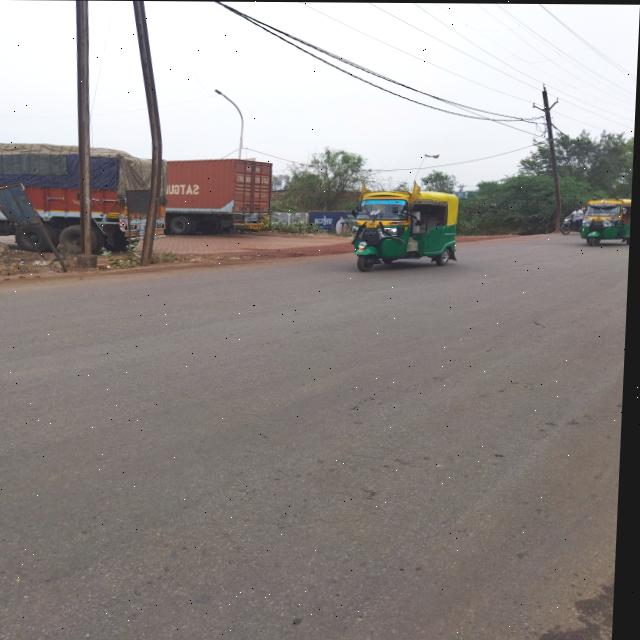plate: (596, 218, 604, 221)
